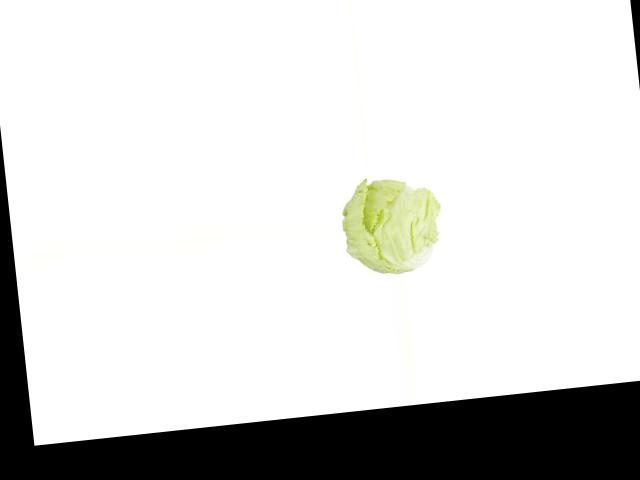lettuce: (338, 173, 443, 282)
